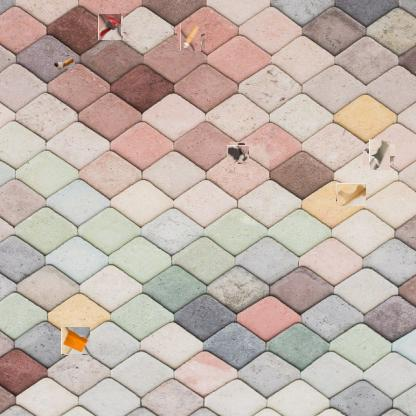dirty: (62, 326, 90, 355), (366, 141, 393, 168), (179, 25, 203, 50), (98, 15, 122, 40), (53, 55, 75, 69)
liquid: (336, 183, 366, 206), (229, 144, 248, 163)
